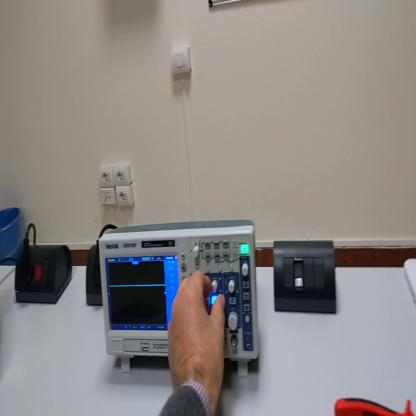hand: (168, 270, 227, 400)
oscilloscope: (99, 223, 260, 377)
pliers: (336, 396, 415, 415)
socket: (12, 245, 74, 306), (86, 245, 103, 305)
